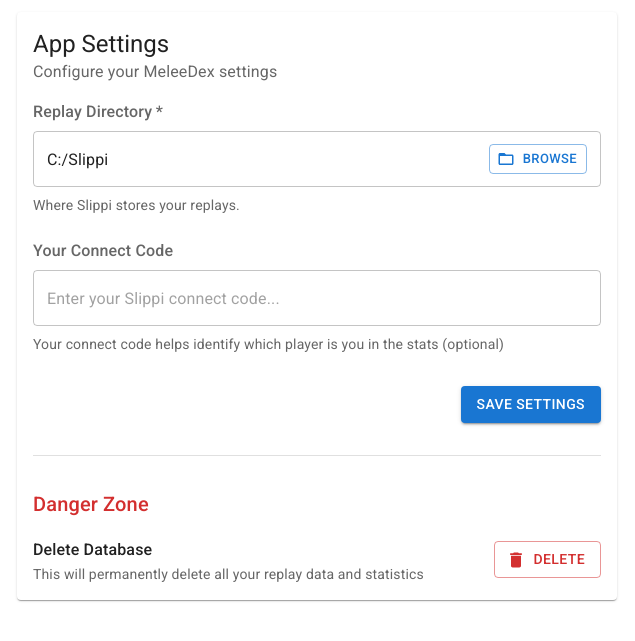
Test: SettingsPage — the connect code has to look like one › will not save while the code is malformed
The image size is (635, 641).
In the field with placeholder "Enter your Slippi connect code...": point(317, 298) top-left (33, 270), bottom-right (601, 326), type "nope"
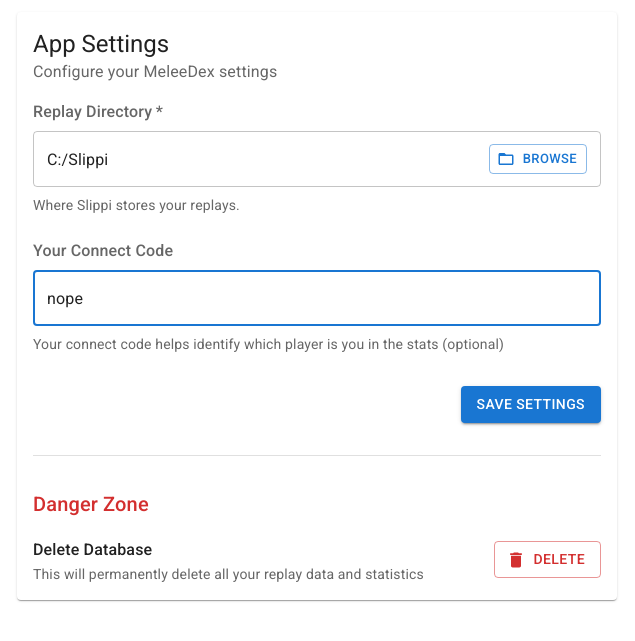
Click the button "Save Settings": point(531, 404) top-left (461, 386), bottom-right (601, 422)
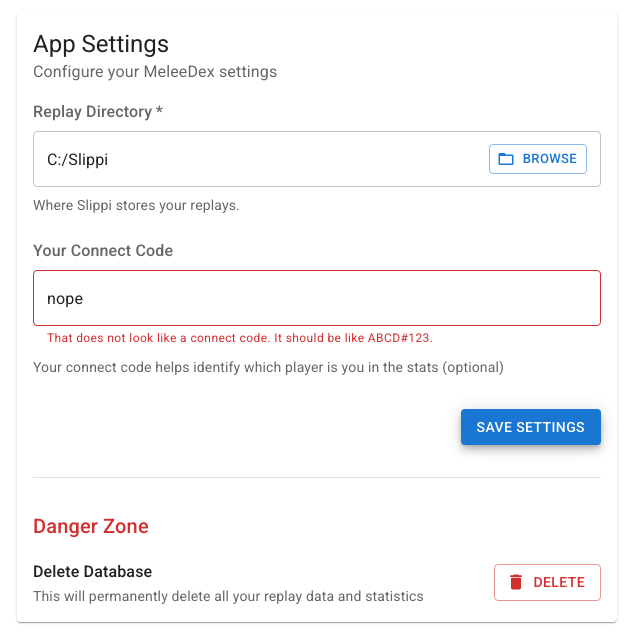
Now the text "That does not look like a connect code" is shown, box top-left (47, 331), bottom-right (433, 345)
